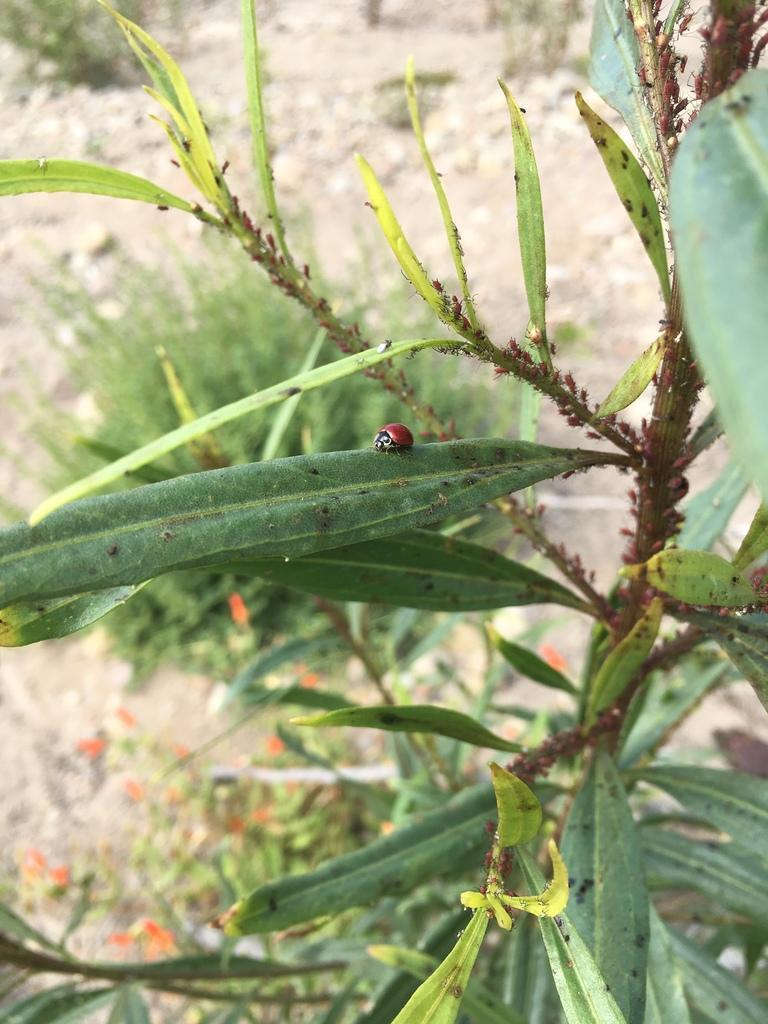ladybug: (371, 422, 416, 457)
